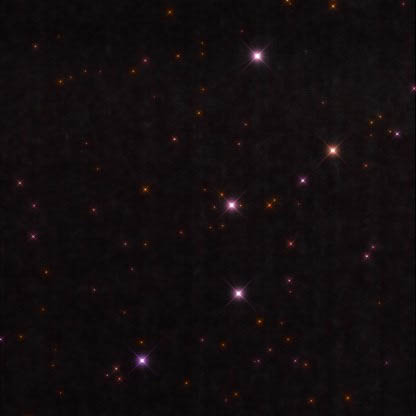Cassiopeia: (286, 137, 342, 188), (214, 189, 256, 227), (121, 341, 159, 372), (228, 278, 257, 310), (235, 44, 272, 67)
